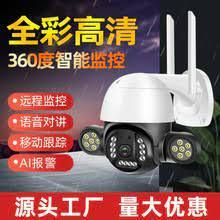maru: (78, 120, 201, 174)
